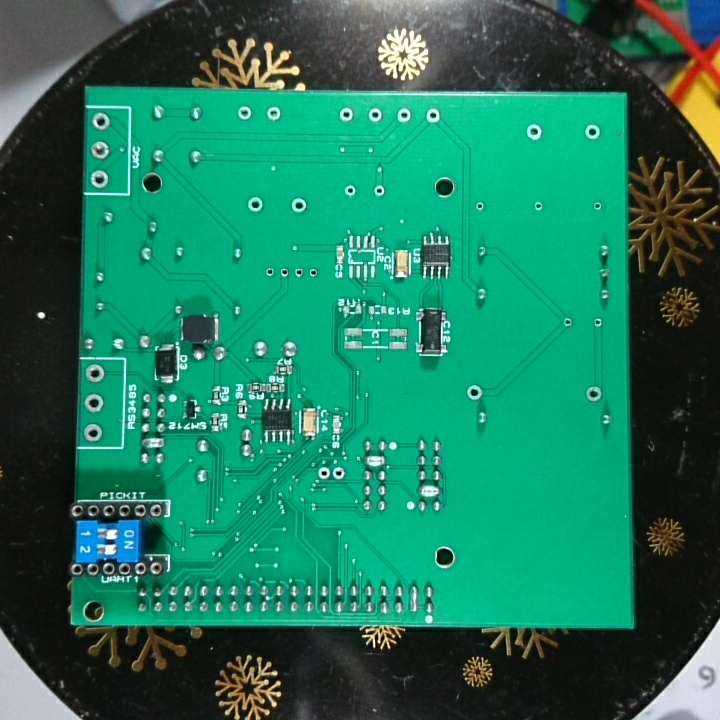F: (232, 102, 257, 126), (81, 392, 106, 415), (81, 420, 106, 443), (523, 120, 546, 145), (88, 166, 110, 191), (90, 110, 113, 133), (89, 138, 112, 161), (244, 194, 267, 217), (262, 103, 286, 125), (580, 120, 601, 144), (288, 195, 311, 216), (83, 363, 106, 383), (464, 383, 487, 403), (393, 106, 414, 126), (584, 383, 606, 401), (422, 106, 440, 128), (331, 462, 346, 486), (341, 180, 359, 200), (336, 106, 357, 123), (559, 314, 577, 333), (304, 262, 320, 283), (367, 107, 385, 125), (371, 182, 387, 202), (276, 264, 291, 280), (316, 463, 330, 480), (473, 198, 487, 215), (291, 262, 304, 280), (531, 197, 545, 212), (591, 198, 603, 215), (262, 266, 277, 279), (591, 317, 605, 329)
P: (406, 582, 421, 620), (137, 435, 168, 451), (416, 483, 444, 499), (361, 453, 386, 470)
